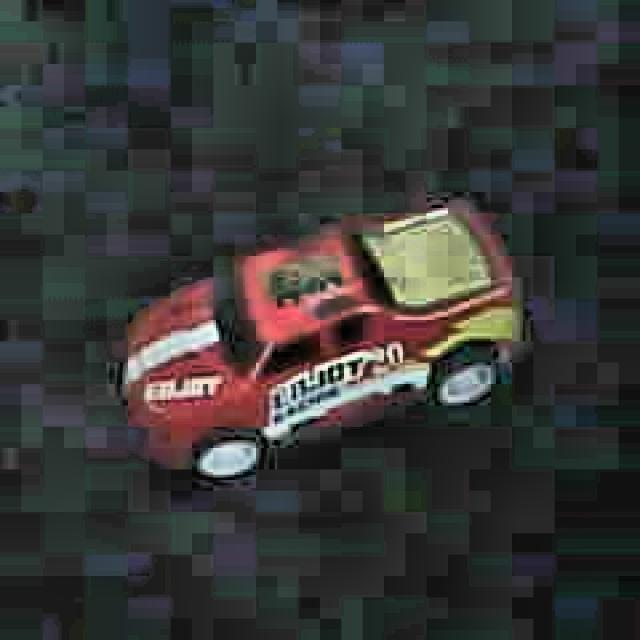car: (117, 190, 530, 495)
